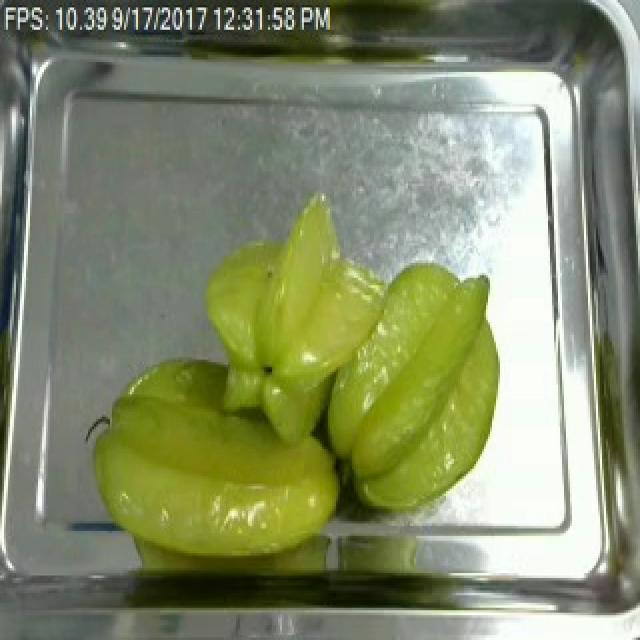fruit: (80, 357, 352, 576), (310, 256, 512, 528), (190, 181, 400, 399)
